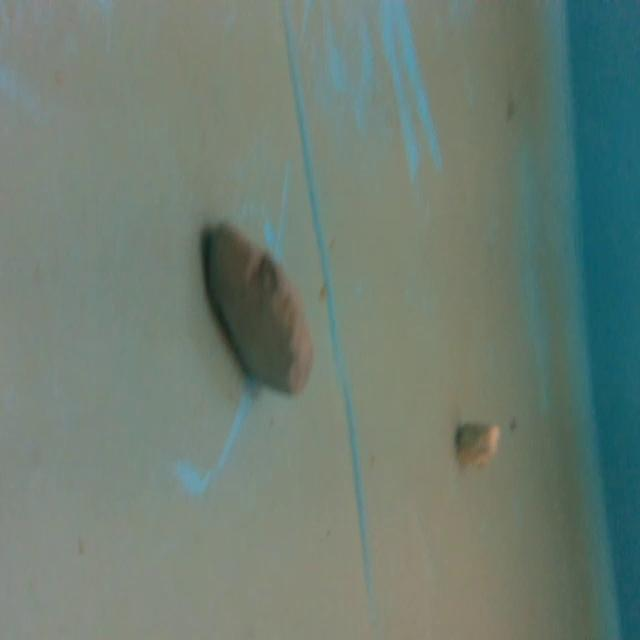rock: (200, 212, 320, 400), (456, 418, 504, 474)
